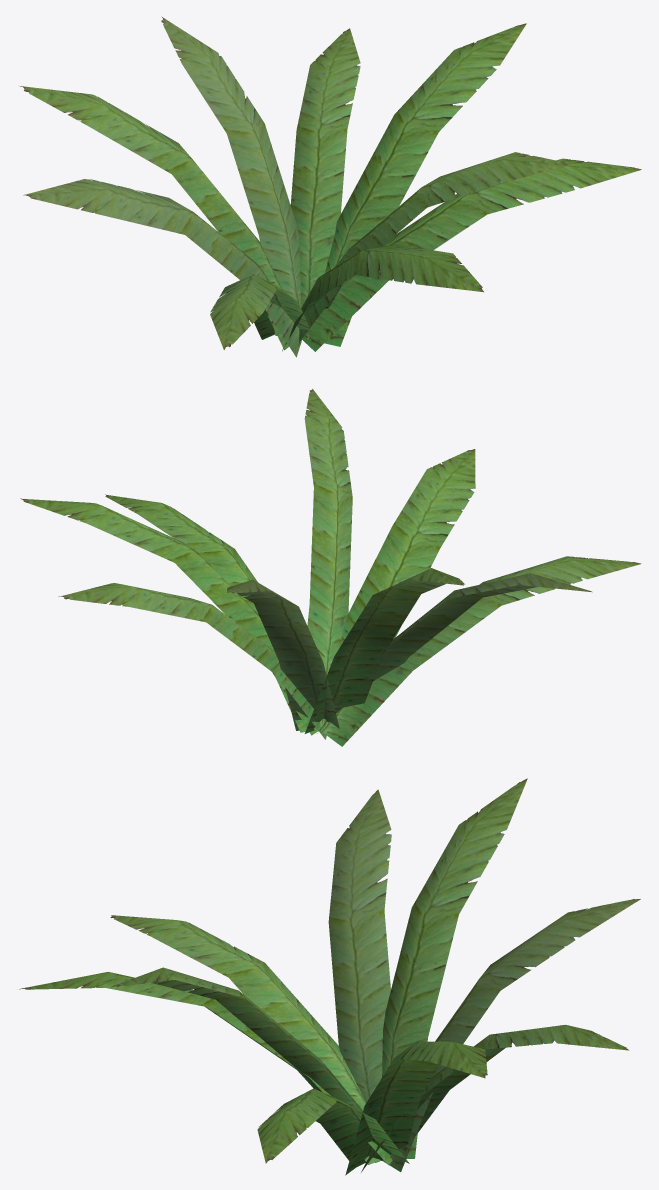
The model's file is GrassPlant_01_v02.obj.
3 renders of one model, top to bottom at view 1: azimuth 30°, elevation 25°; view 2: azimuth 150°, elevation 25°; view 3: azimuth 270°, elevation 25°, orthographic. The views are drawn at different scales.
Visible parts, largest first — view 1: polySurface59; view 2: polySurface59; view 3: polySurface59.
Part boxes in pixels (left/top/right/bottom): polySurface59: left=19, top=16, right=641, bottom=357; polySurface59: left=20, top=389, right=641, bottom=746; polySurface59: left=19, top=778, right=640, bottom=1175.
Size of the model in its own units: 19.75 by 8.67 by 17.65.
1 material, 1 textured.
